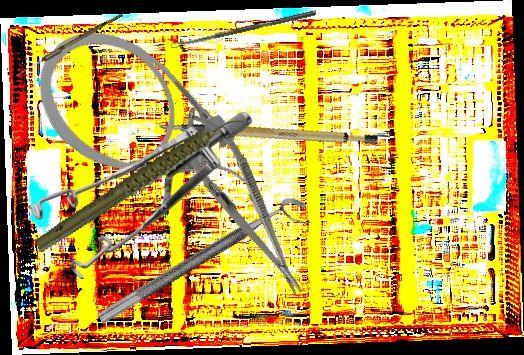Cannula: (13, 6, 272, 245)
Fixation Ring: (95, 190, 316, 343)
Handpiece: (18, 113, 263, 256)
Needle Holder: (164, 96, 321, 308)
Scalpel Handle: (155, 86, 380, 175)
Speculum: (27, 112, 252, 279)
Surgical Spoon: (14, 10, 123, 80), (170, 9, 317, 49)
